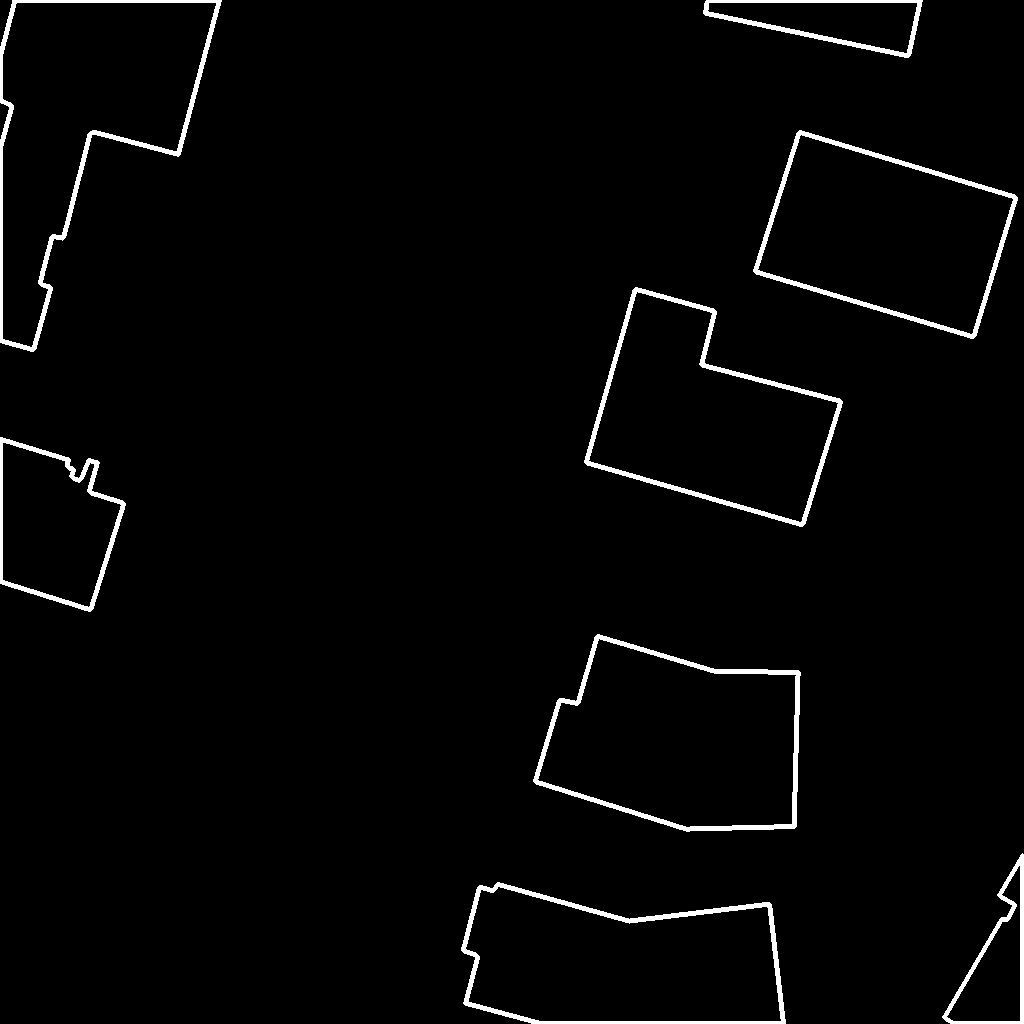building: (0, 0, 221, 351), (586, 289, 842, 526), (755, 132, 1017, 338), (535, 636, 799, 830), (463, 884, 785, 1024), (0, 431, 125, 611), (944, 855, 1024, 1024), (705, 0, 922, 57)
